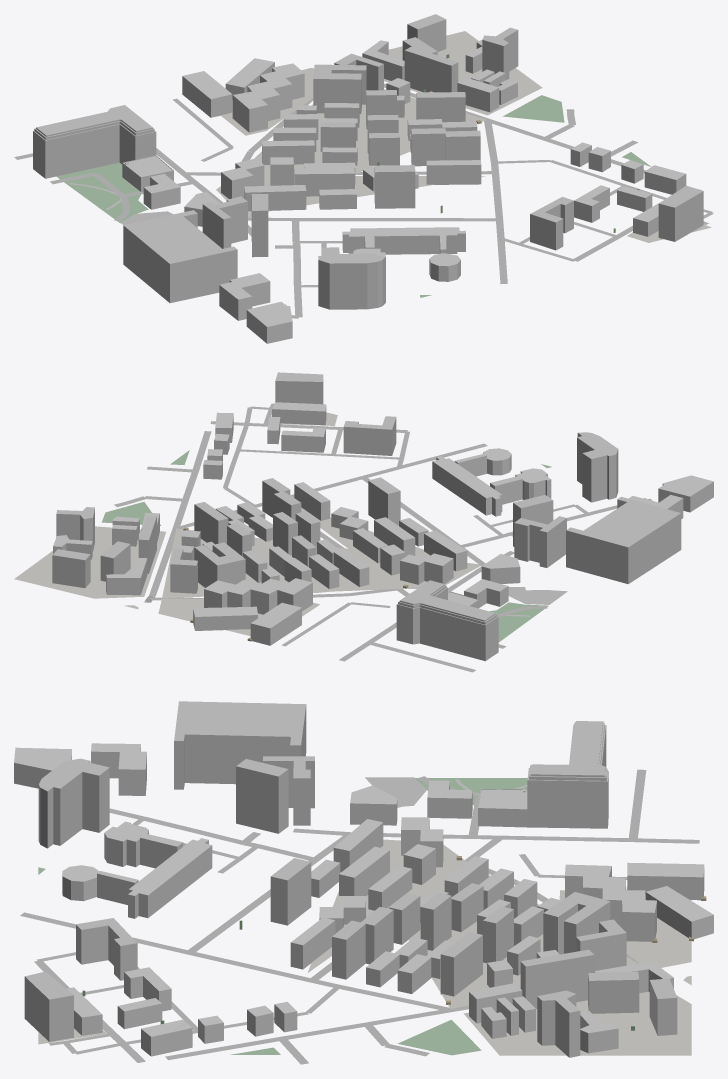
3 views of the same model, one above another, from view 1: azimuth 30°, elevation 25°; view 2: azimuth 150°, elevation 25°; view 3: azimuth 270°, elevation 25° (orthographic). The views are drawn at different scales.
Size of the model in its own units: 567 by 50.21 by 536.
